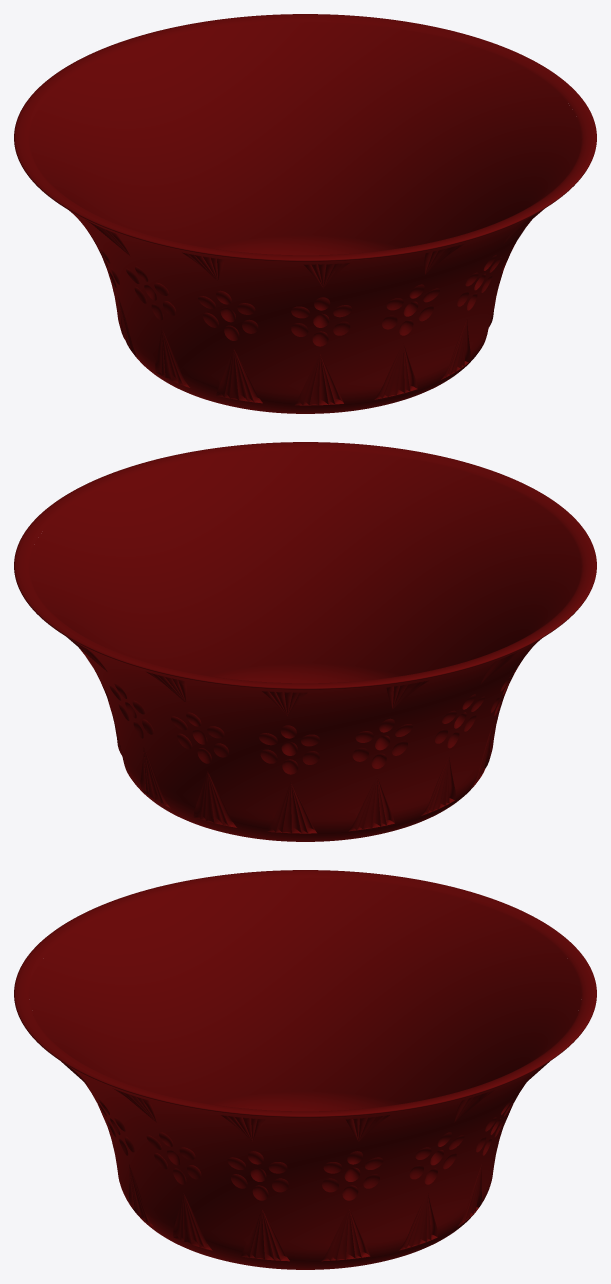
The model's file is iris.glb.
3 views of the same model, one above another, from view 1: azimuth 30°, elevation 25°; view 2: azimuth 150°, elevation 25°; view 3: azimuth 270°, elevation 25° (orthographic).
Size of the model in its own units: 0.1254 by 0.0506 by 0.1254.
